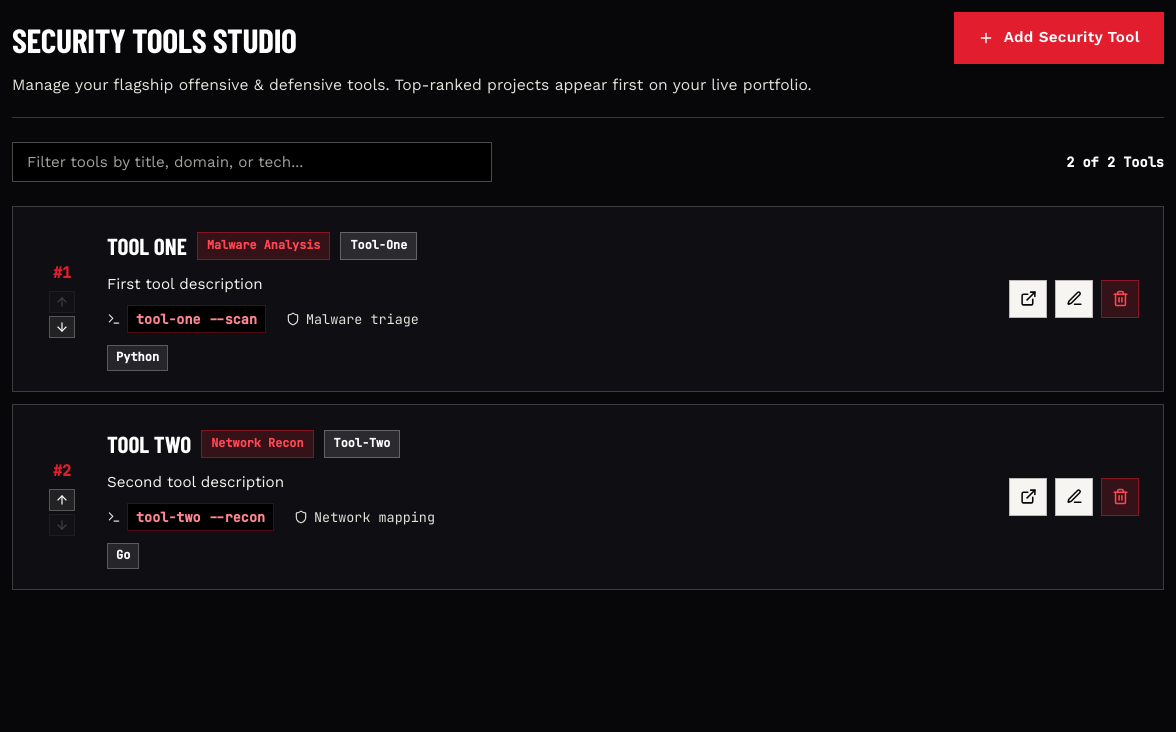
Test: ProjectStudio component › filters tools based on search query
This screenshot has width=1176, height=732.
Type "Network" into the search field with placeholder "Filter tools by title, domain, or tech..." at (252, 162), box [12, 142, 492, 182]
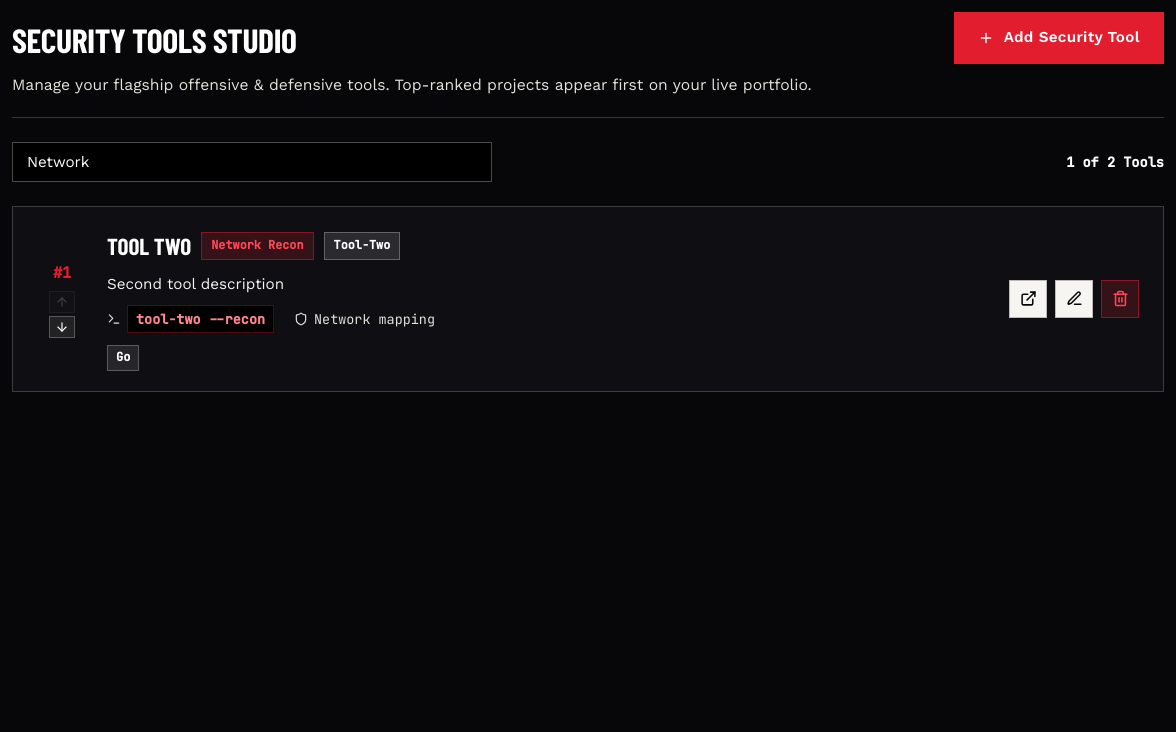
Check: the heading "Tool Two" is shown, box [107, 227, 191, 265]
Check: the heading "Tool One" is gone
Check: the text "1 of 2 Tools" is shown, box [1066, 153, 1164, 171]
